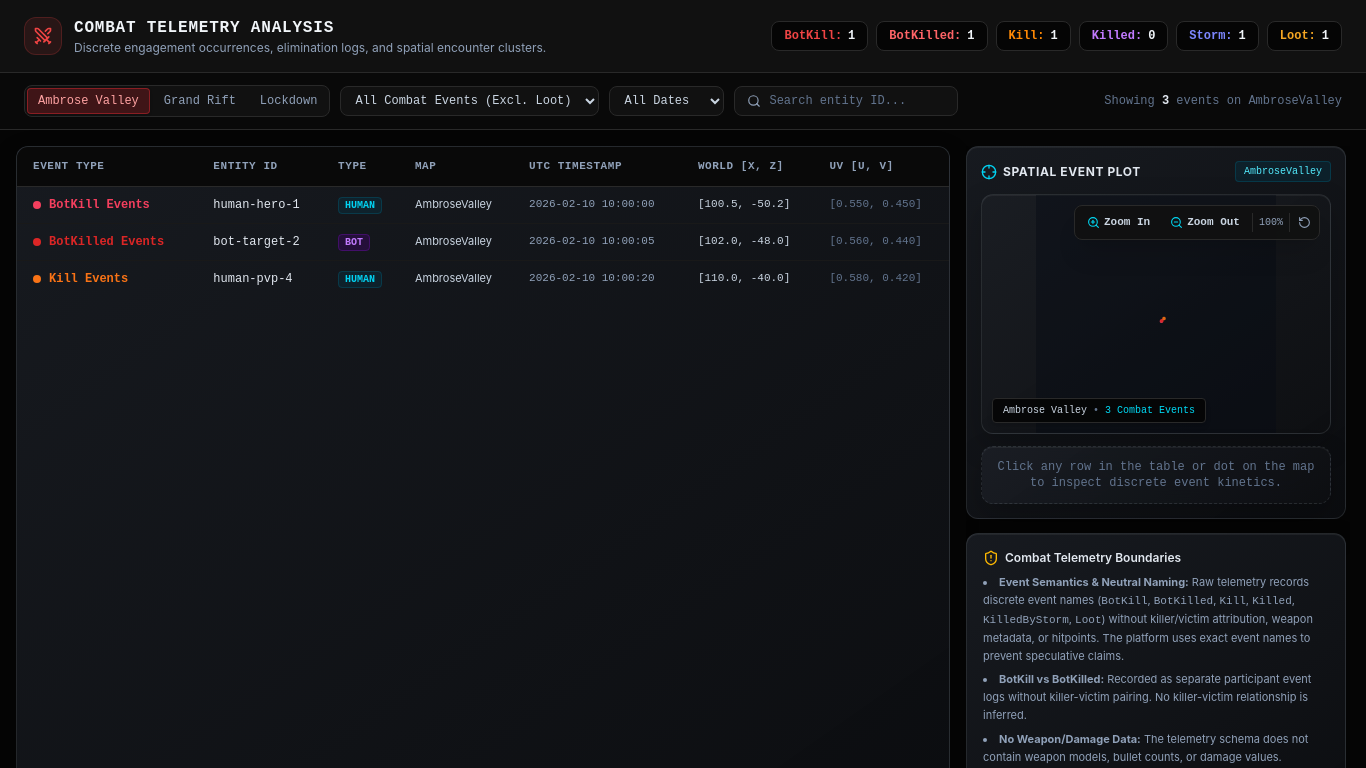
Test: CombatAnalysisPage › filters events by category using the select dropdown
Check: the text "human-hero-1" is shown, box [201, 186, 326, 223]
Check: the text "bot-target-2" is shown, box [201, 223, 326, 260]
Step 1. Select "BotKill Events (1)" in the 1st dropdown showing "All Combat Events" → [470, 101], box [340, 86, 600, 116]
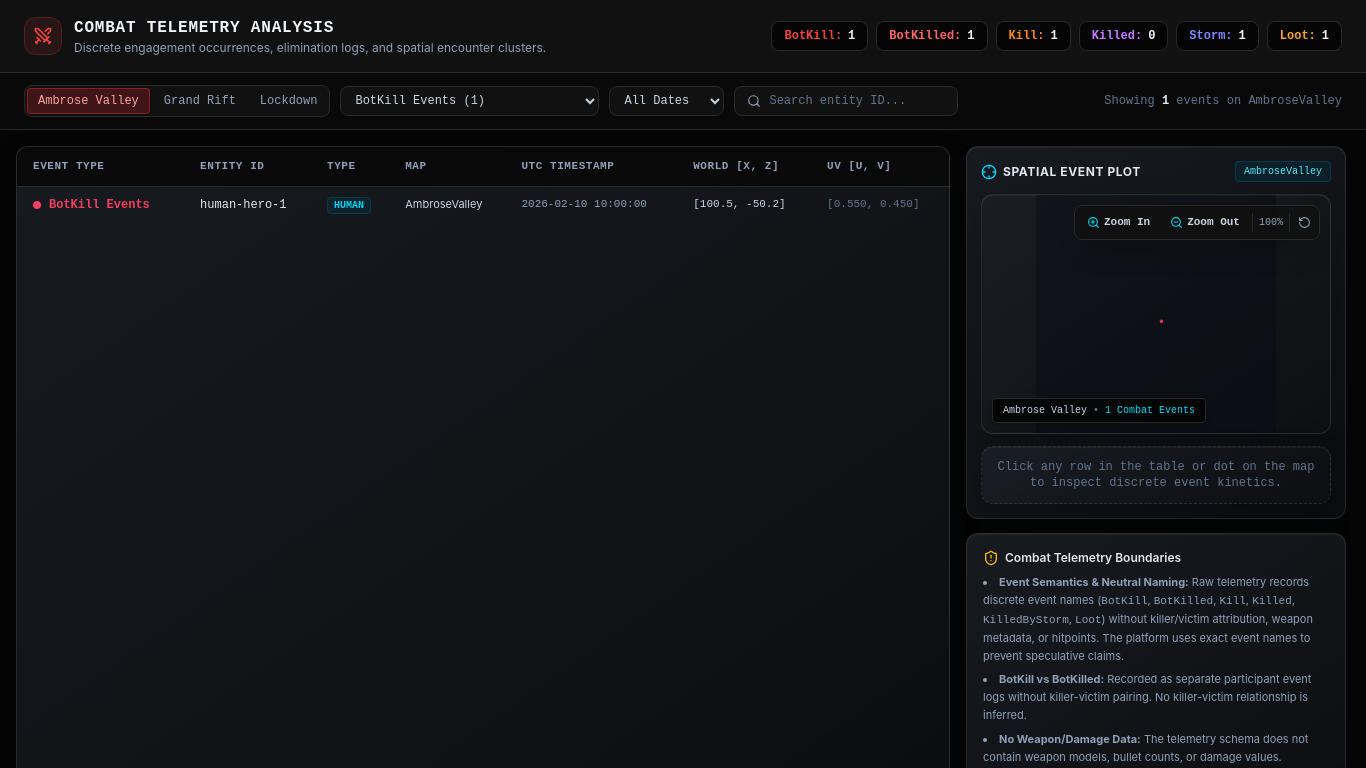
Check: the text "human-hero-1" is shown, box [188, 186, 315, 223]
Check: the text "bot-target-2" is gone
Check: the text "human-pvp-4" is gone
